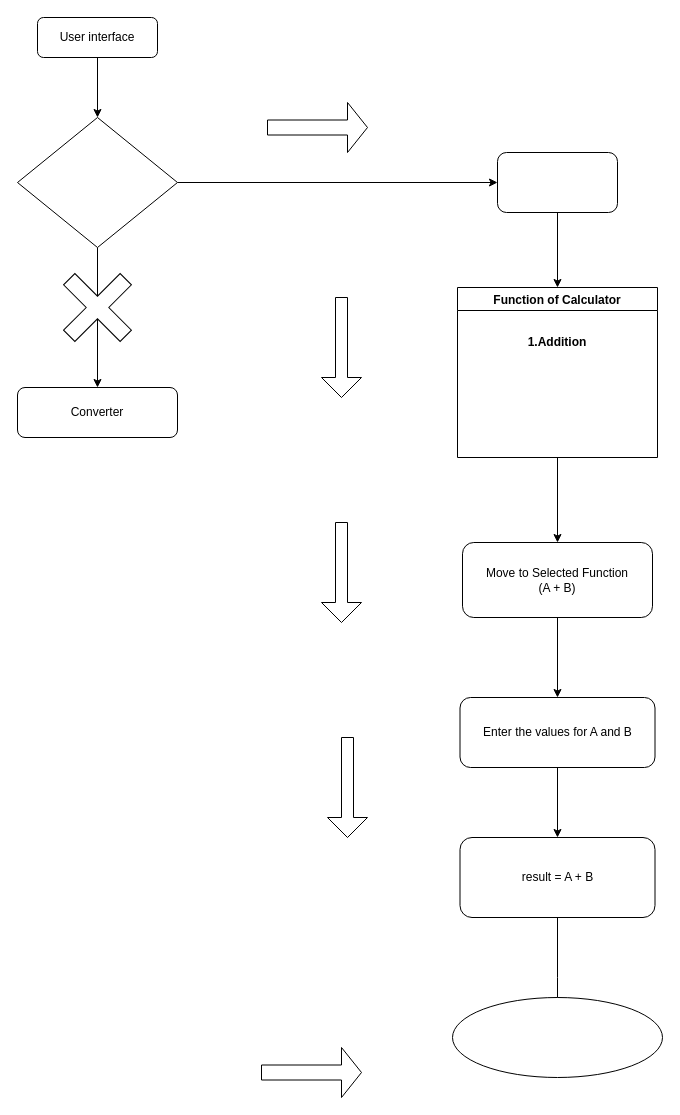
Some shapes in this 680 by 1115 pixel diagram are drawn without their labels. Here are the shapes that lost their labels. From the top down, the box of each, then its label:
(16, 116, 178, 248): Calculator /Converter
(496, 152, 618, 212): Calculator
(452, 996, 662, 1078): Result for the user
